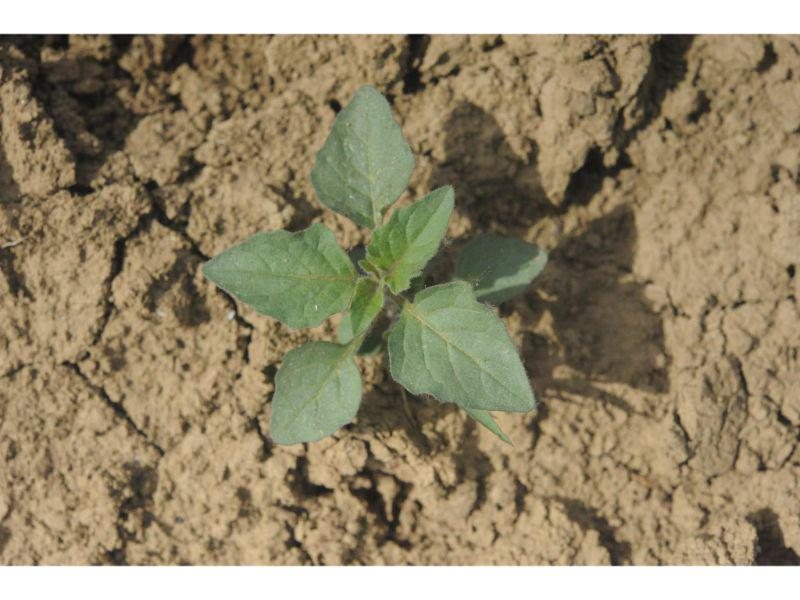nightshade: (202, 83, 549, 447)
